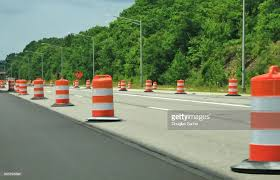barrel: (249, 72, 280, 162), (88, 77, 115, 117), (54, 80, 69, 103), (32, 79, 44, 97), (228, 78, 238, 96), (19, 80, 27, 95), (176, 79, 184, 92), (145, 79, 151, 90), (15, 80, 21, 91), (9, 80, 15, 90), (120, 81, 125, 90), (73, 81, 78, 89)
